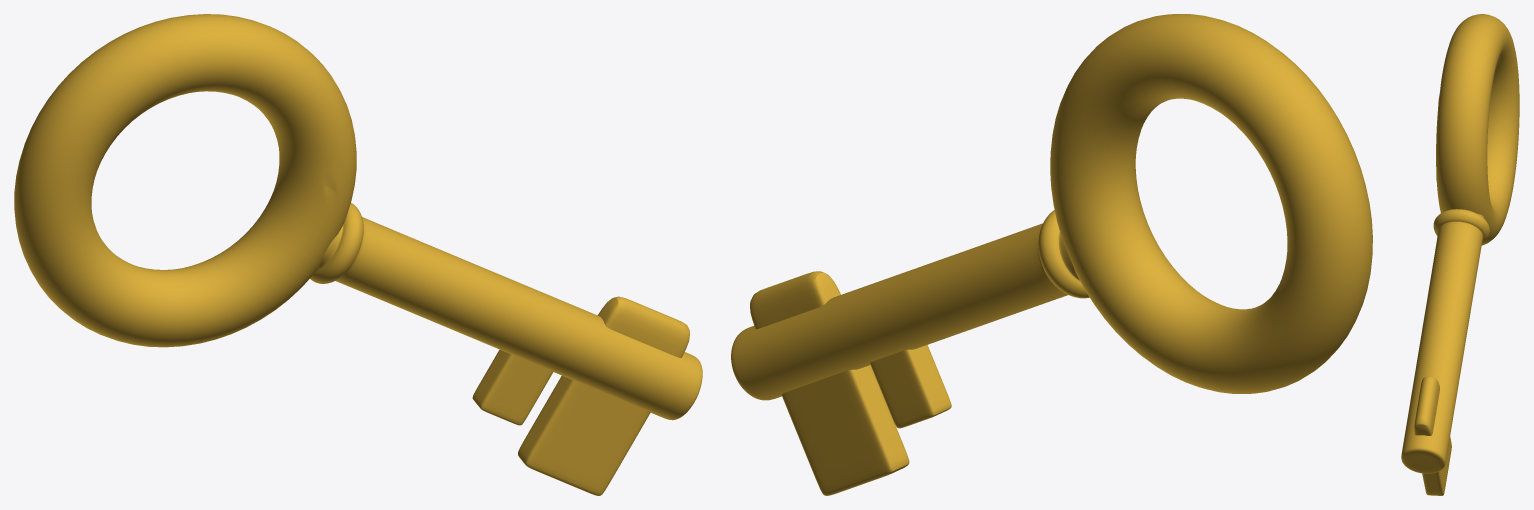
File: key.glb
3 renders of one model, left to right at view 1: azimuth 30°, elevation 25°; view 2: azimuth 150°, elevation 25°; view 3: azimuth 270°, elevation 25°, orthographic. The views are drawn at different scales.
Visible parts, largest first — view 1: Key; view 2: Key; view 3: Key.
Part boxes in pixels (box(x1,y1,x2,y2)): Key: box(14, 14, 702, 495); Key: box(731, 14, 1372, 495); Key: box(1401, 14, 1519, 495).
Bounding box in the file's own units: 1.85 × 1.53 × 0.4681.
